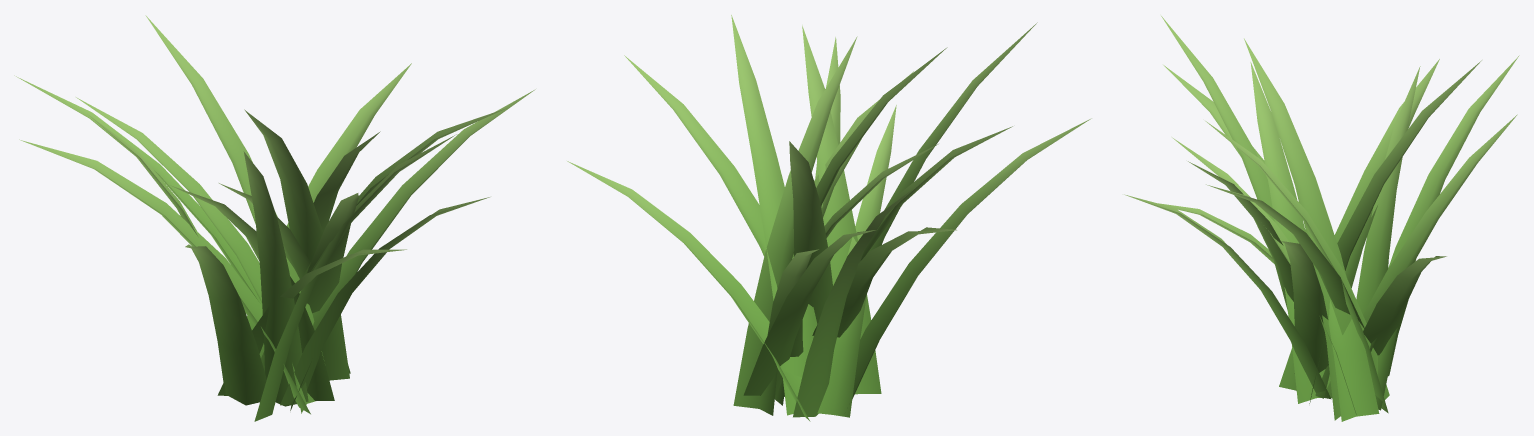
File: decor_touffe_printemps_2.glb
3 renders of one model, left to right at view 1: azimuth 30°, elevation 25°; view 2: azimuth 150°, elevation 25°; view 3: azimuth 270°, elevation 25°, orthographic. The views are drawn at different scales.
Parts seen in each view (by area): view 1: herbe; view 2: herbe; view 3: herbe.
Part boxes in pixels (x1=…): herbe: x1=14, y1=15, x2=535, y2=421; herbe: x1=567, y1=15, x2=1091, y2=421; herbe: x1=1124, y1=16, x2=1519, y2=421.
Bounding box in the file's own units: 0.1785 × 0.1381 × 0.1563.
